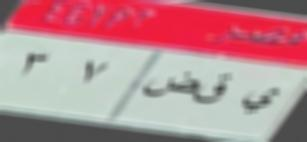3: (17, 48, 51, 80)
7: (80, 59, 113, 87)
daad: (142, 70, 200, 97)
qaaf: (197, 72, 233, 105)
yaa: (239, 85, 282, 116)
